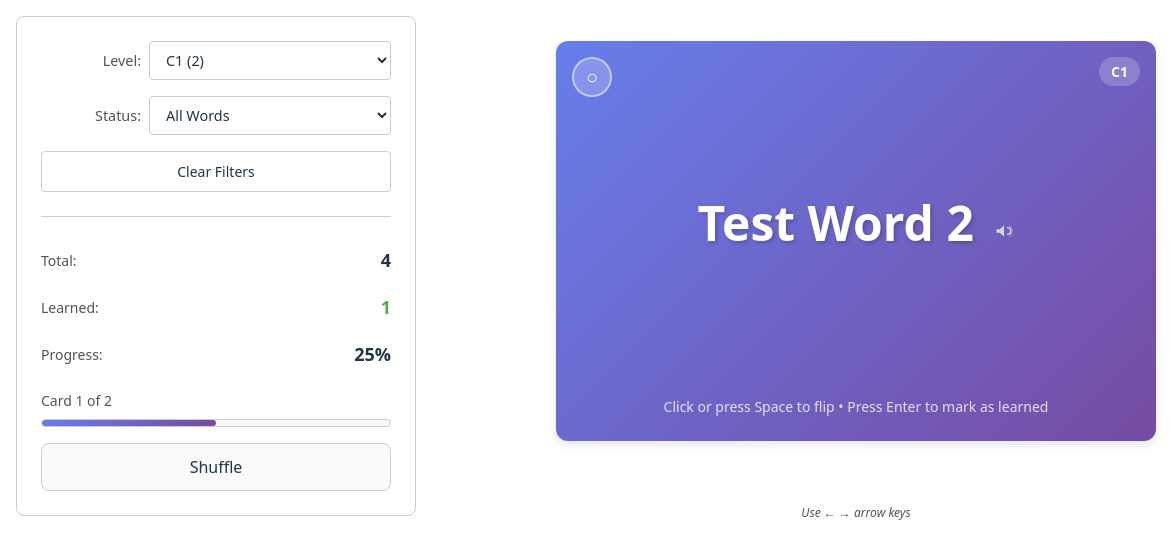
Test case: VocabularyPractice Filtering › clears all filters when Clear button is clicked
Click Clear Filters
Click the button "Clear Filters" at (216, 172), box [41,151,391,192]
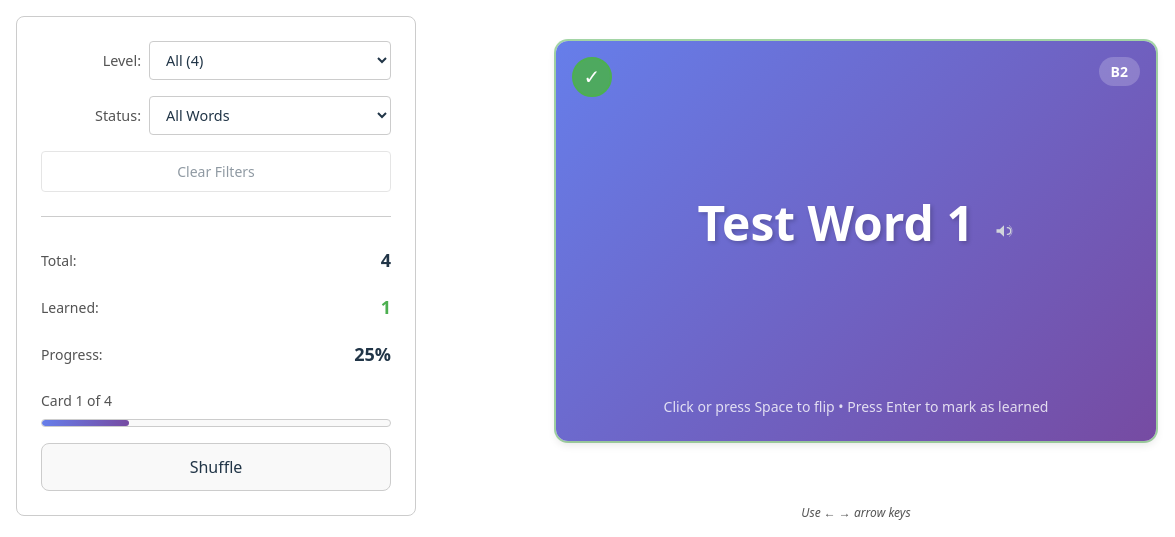
Check: the dropdown labelled "Status:" shows "All Words", box [149,96,391,135]
Check: the dropdown labelled "Level:" shows "All (4)", box [149,41,391,80]
Check: the text "Card 1 of 4" is shown, box [41,391,112,410]
